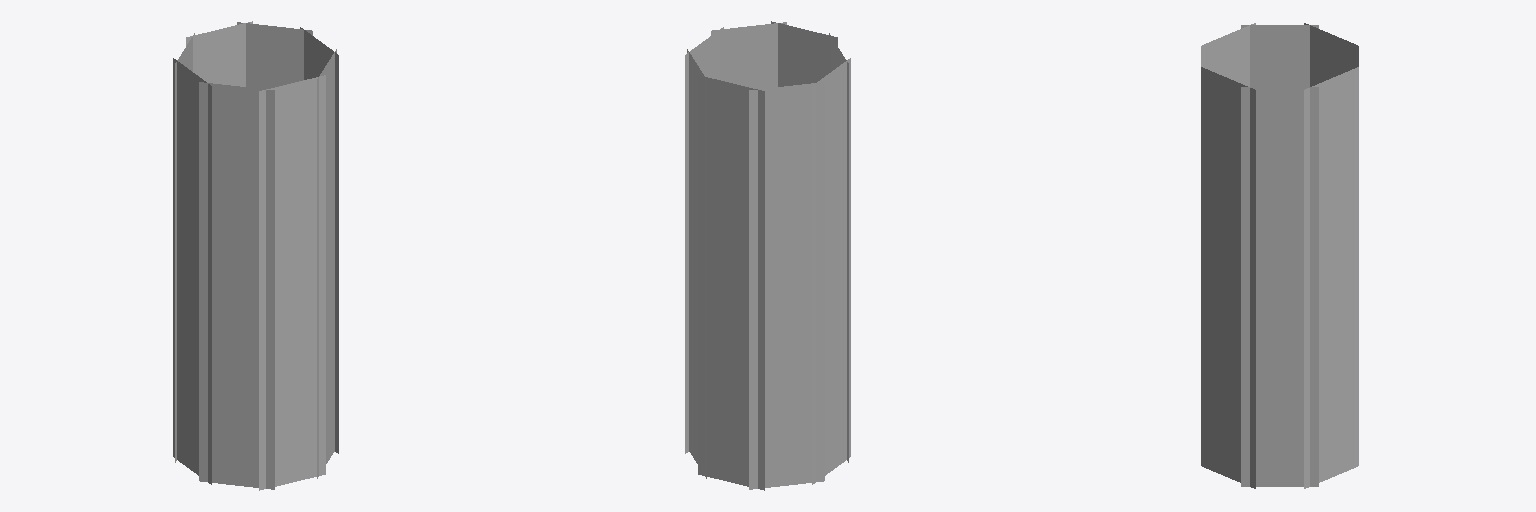
3 renders of one model, left to right at view 1: azimuth 30°, elevation 25°; view 2: azimuth 150°, elevation 25°; view 3: azimuth 270°, elevation 25°, orthographic.
Parts seen in each view (by area): view 1: collision; view 2: collision; view 3: collision.
Boxes of the visible parts, <box> form: collision: <box>173,21,338,490</box>; collision: <box>685,21,850,490</box>; collision: <box>1201,23,1358,488</box>.
Size of the model in its own units: 110 by 306 by 110.